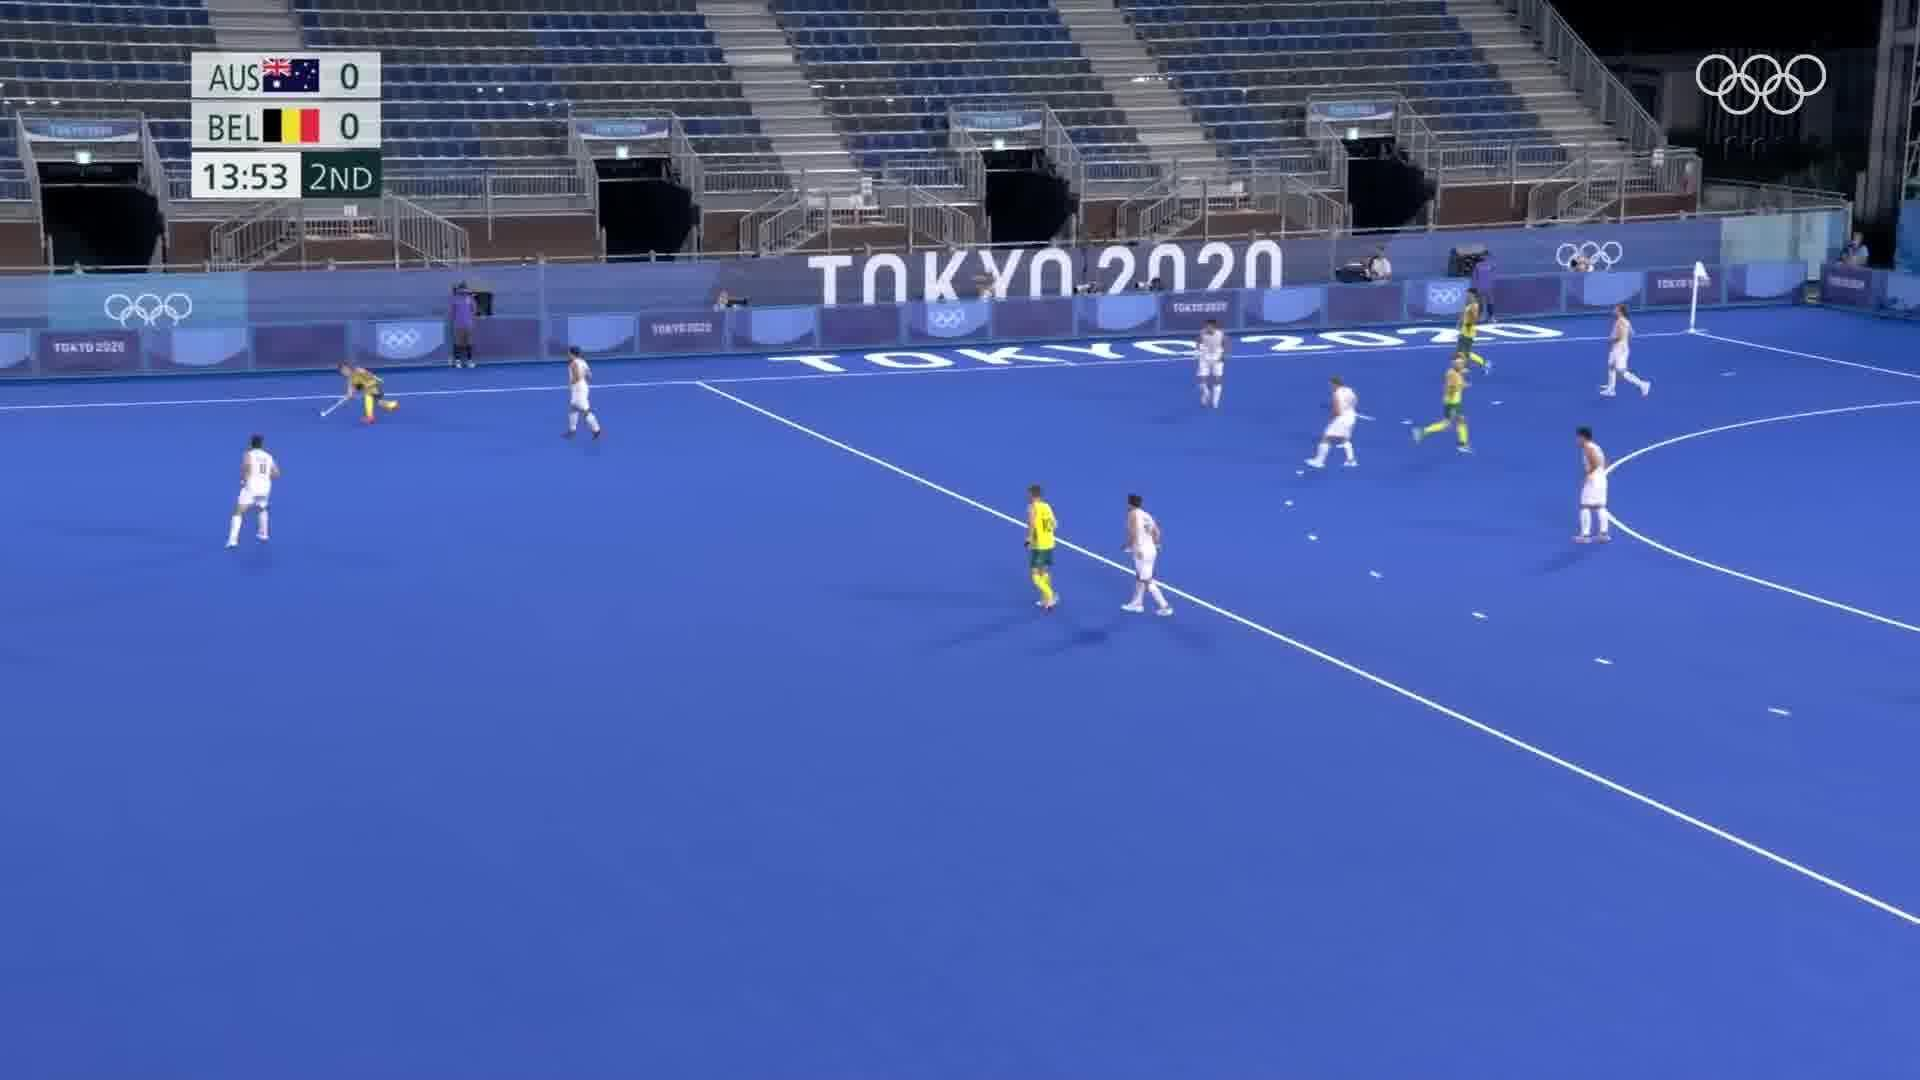ball: (315, 407, 334, 425)
